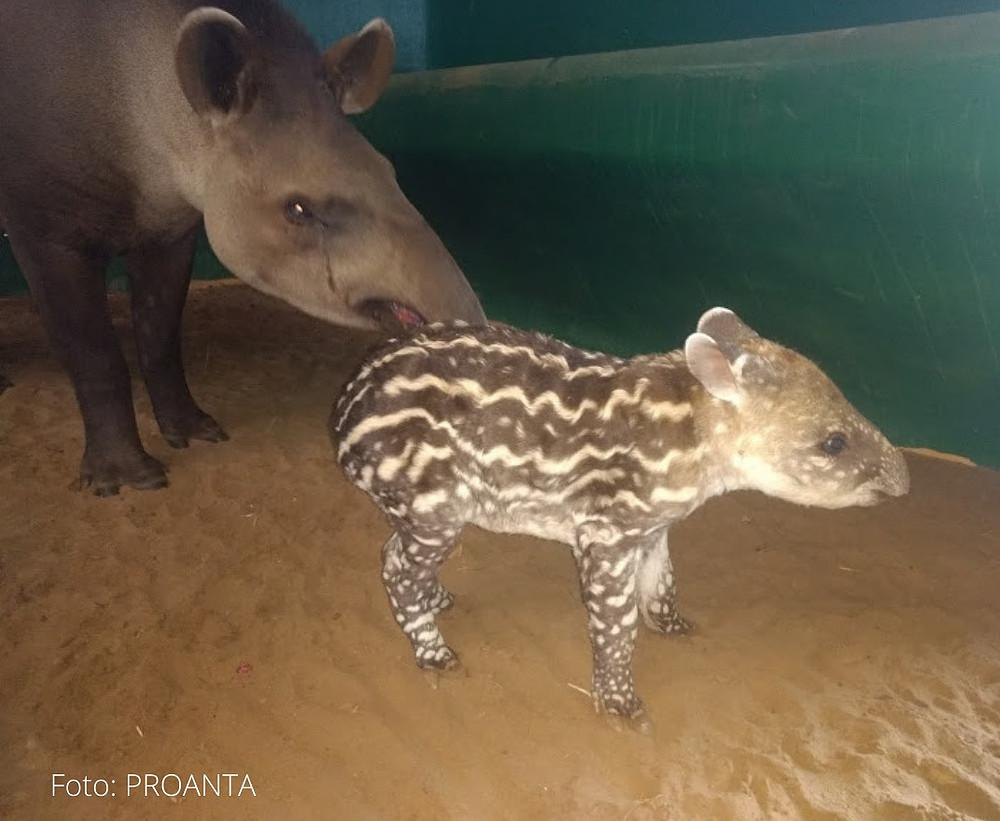Anta: (325, 305, 920, 751), (6, 5, 498, 498)
